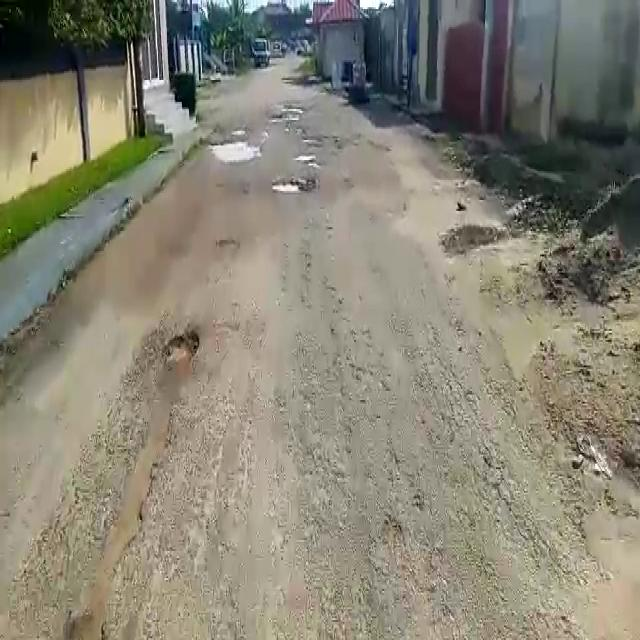Pothole: (163, 327, 201, 368), (206, 139, 262, 166), (268, 178, 309, 196)
